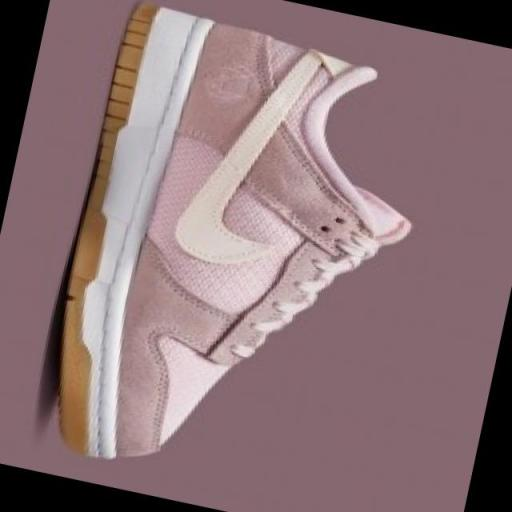Nike: (163, 31, 324, 276)
